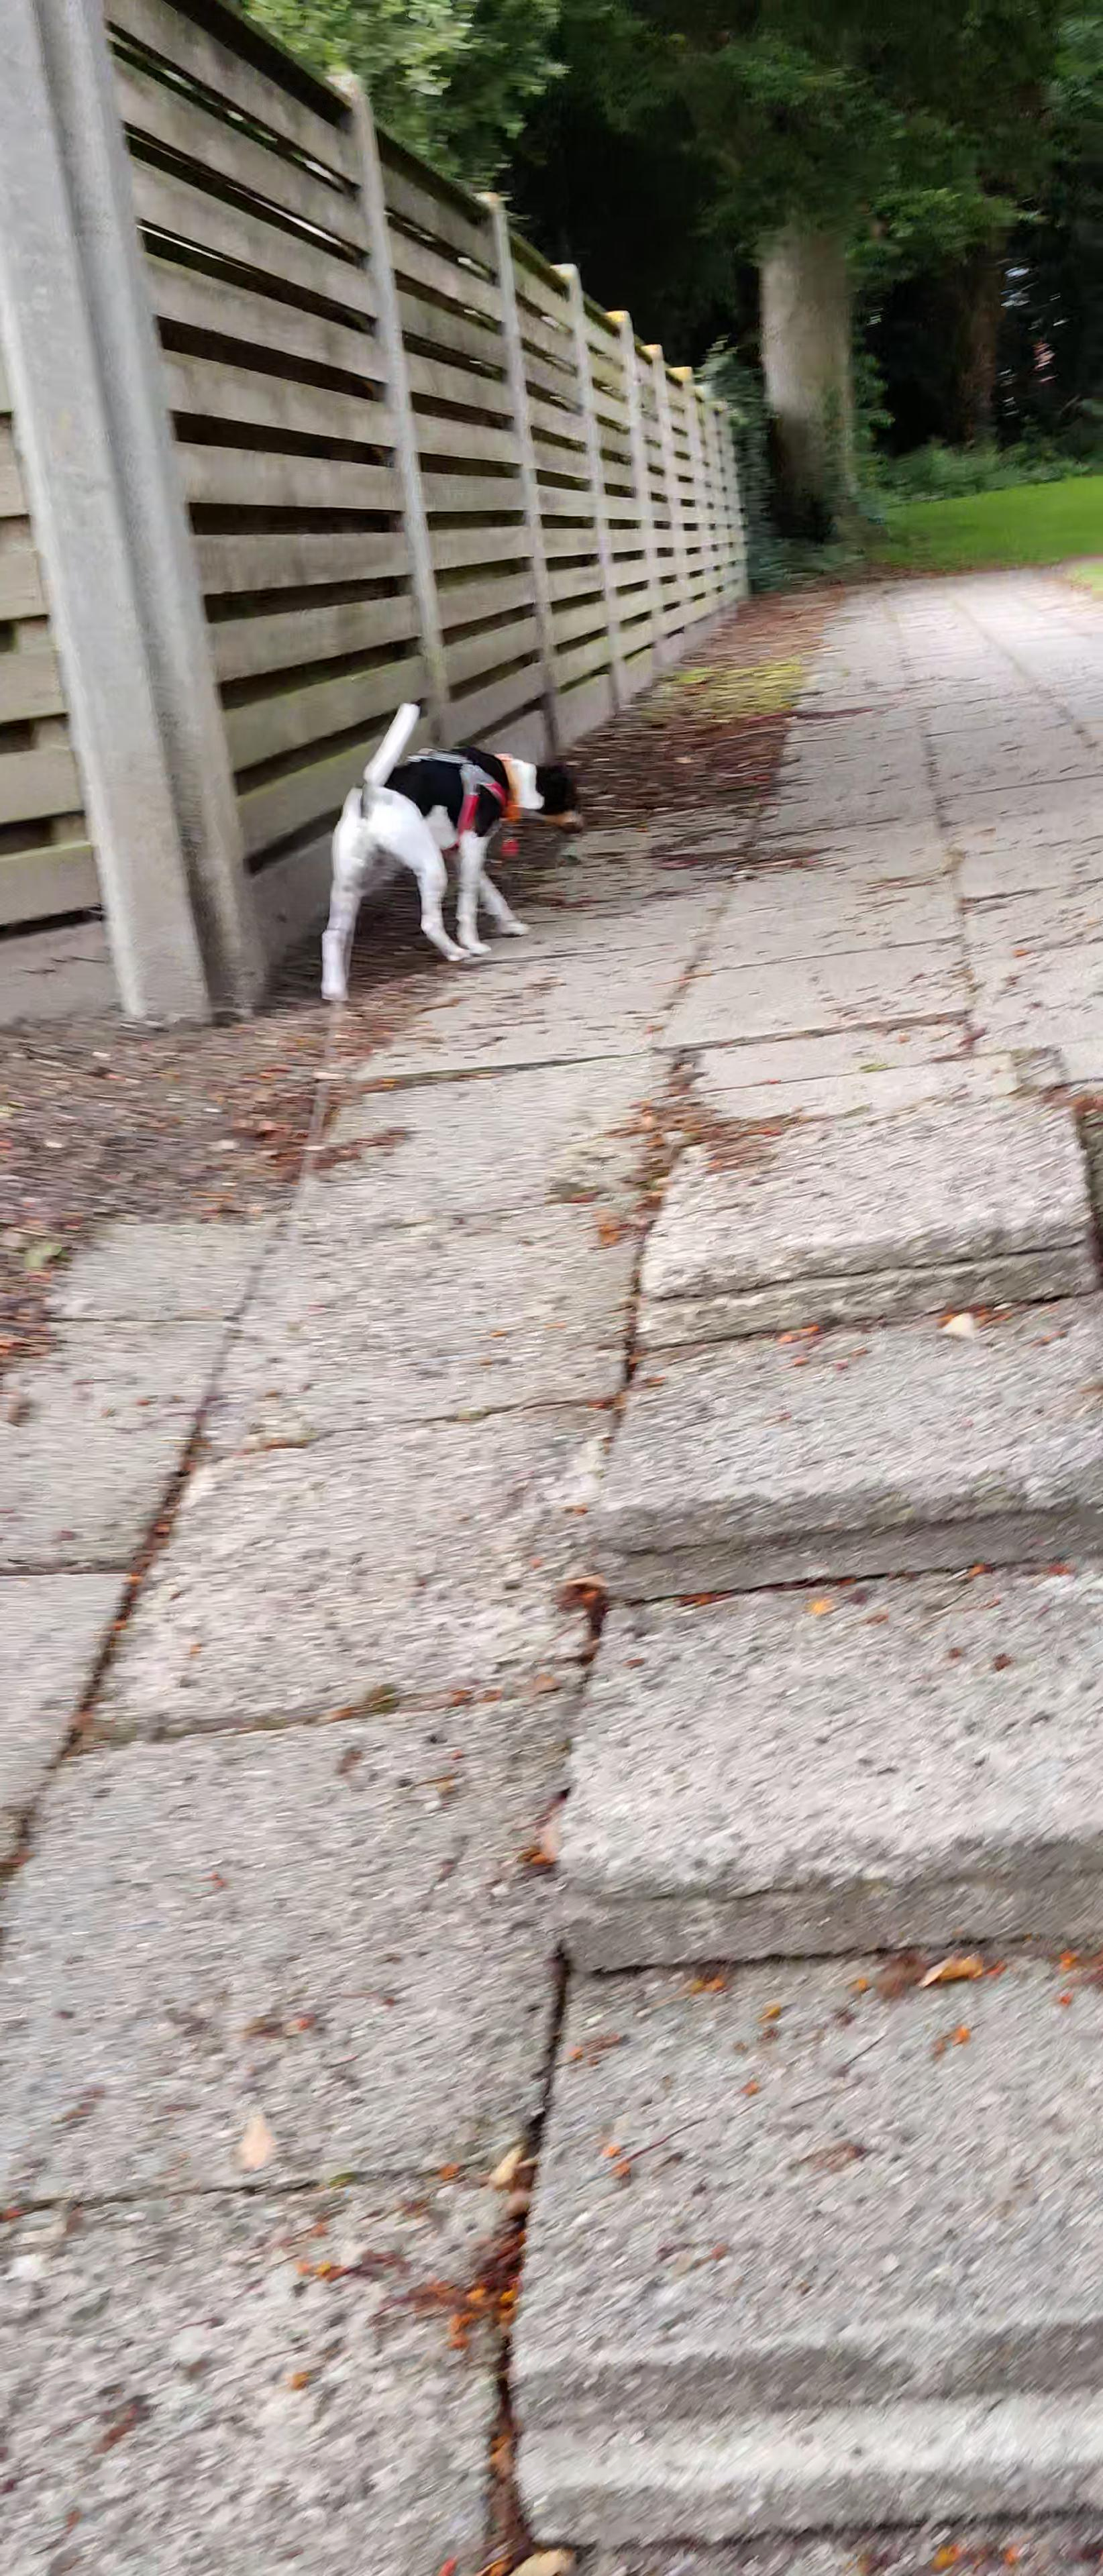Dog: (302, 693, 597, 1002)
